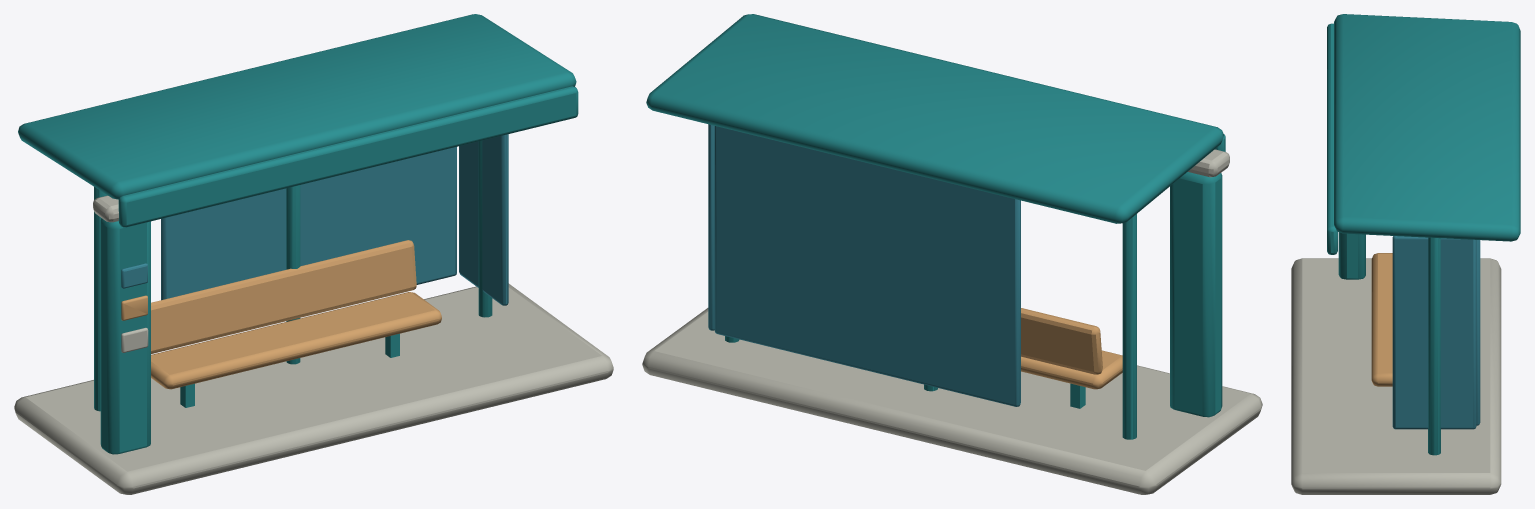
The model's file is busstop-v2.glb.
3 renders of one model, left to right at view 1: azimuth 30°, elevation 25°; view 2: azimuth 150°, elevation 25°; view 3: azimuth 270°, elevation 25°, orthographic. The views are drawn at different scales.
Visible parts, largest first — view 1: SINGAPORE BUS STOP ASSEMBLY · Deep teal, SINGAPORE BUS STOP ASSEMBLY · Concrete, SINGAPORE BUS STOP ASSEMBLY · Graphic glass, SINGAPORE BUS STOP ASSEMBLY · Sun timber; view 2: SINGAPORE BUS STOP ASSEMBLY · Deep teal, SINGAPORE BUS STOP ASSEMBLY · Graphic glass, SINGAPORE BUS STOP ASSEMBLY · Concrete, SINGAPORE BUS STOP ASSEMBLY · Sun timber; view 3: SINGAPORE BUS STOP ASSEMBLY · Deep teal, SINGAPORE BUS STOP ASSEMBLY · Concrete, SINGAPORE BUS STOP ASSEMBLY · Graphic glass, SINGAPORE BUS STOP ASSEMBLY · Sun timber.
Boxes of the visible parts, left/top/right/bottom form: SINGAPORE BUS STOP ASSEMBLY · Deep teal: left=18, top=14, right=578, bottom=454; SINGAPORE BUS STOP ASSEMBLY · Concrete: left=14, top=195, right=613, bottom=494; SINGAPORE BUS STOP ASSEMBLY · Graphic glass: left=121, top=134, right=508, bottom=305; SINGAPORE BUS STOP ASSEMBLY · Sun timber: left=121, top=240, right=441, bottom=389; SINGAPORE BUS STOP ASSEMBLY · Deep teal: left=646, top=14, right=1225, bottom=439; SINGAPORE BUS STOP ASSEMBLY · Graphic glass: left=708, top=124, right=1020, bottom=406; SINGAPORE BUS STOP ASSEMBLY · Concrete: left=642, top=149, right=1262, bottom=494; SINGAPORE BUS STOP ASSEMBLY · Sun timber: left=1021, top=308, right=1122, bottom=389; SINGAPORE BUS STOP ASSEMBLY · Deep teal: left=1327, top=14, right=1520, bottom=455; SINGAPORE BUS STOP ASSEMBLY · Concrete: left=1291, top=258, right=1501, bottom=494; SINGAPORE BUS STOP ASSEMBLY · Graphic glass: left=1392, top=236, right=1480, bottom=429; SINGAPORE BUS STOP ASSEMBLY · Sun timber: left=1371, top=253, right=1392, bottom=386.
Size of the model in its own units: 5.8 by 3.29 by 2.51.
